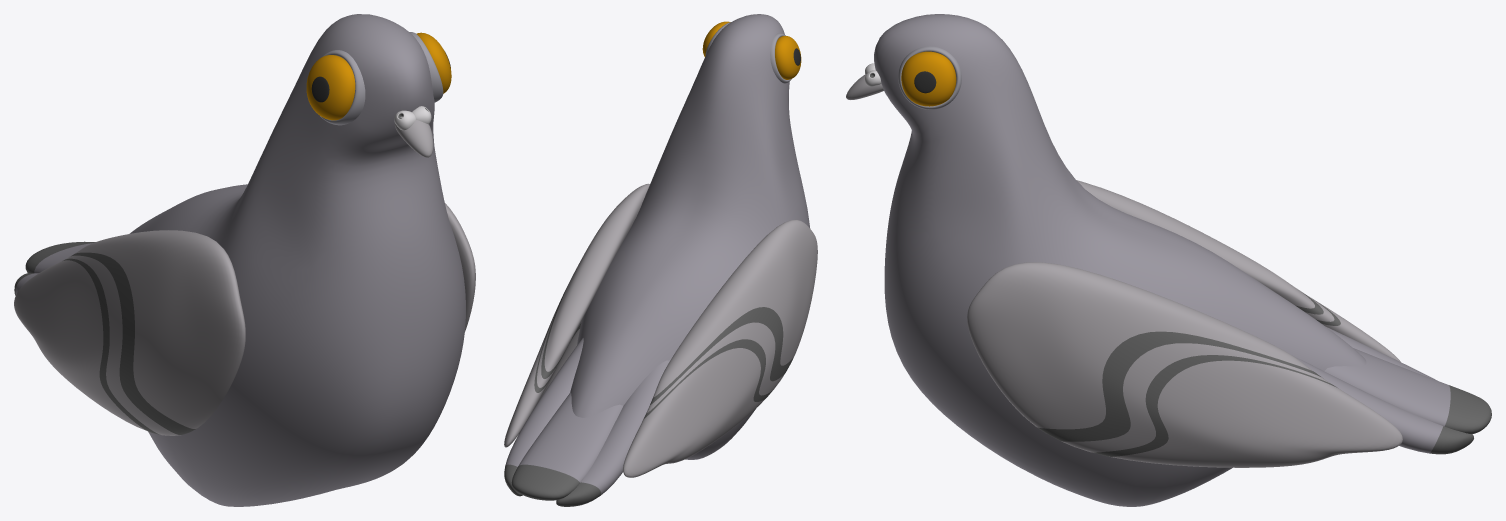
Rendered from FlyingPigeon.glb.
3 views of the same model, side by side, from view 1: azimuth 30°, elevation 25°; view 2: azimuth 150°, elevation 25°; view 3: azimuth 270°, elevation 25° (orthographic). The views are drawn at different scales.
Parts seen in each view (by area): view 1: polySurface71, polySurface74, polySurface76, polySurface73, polySurface72, polySurface68, polySurface56, polySurface75, polySurface55.001, polySurface67; view 2: polySurface71, polySurface74, polySurface72, polySurface73, polySurface76; view 3: polySurface71, polySurface73, polySurface72, polySurface74, polySurface75, polySurface67.
Part boxes in pixels (left/top/right/bottom): polySurface71: left=129, top=14, right=465, bottom=506; polySurface74: left=14, top=230, right=245, bottom=435; polySurface76: left=306, top=55, right=355, bottom=120; polySurface73: left=445, top=203, right=475, bottom=331; polySurface72: left=14, top=241, right=95, bottom=295; polySurface68: left=320, top=50, right=365, bottom=125; polySurface56: left=395, top=119, right=433, bottom=157; polySurface75: left=416, top=32, right=451, bottom=93; polySurface55.001: left=394, top=106, right=431, bottom=130; polySurface67: left=409, top=32, right=443, bottom=102; polySurface71: left=570, top=14, right=810, bottom=459; polySurface74: left=623, top=219, right=817, bottom=477; polySurface72: left=504, top=338, right=669, bottom=506; polySurface73: left=504, top=183, right=649, bottom=447; polySurface76: left=775, top=36, right=801, bottom=79; polySurface71: left=874, top=14, right=1366, bottom=506; polySurface73: left=967, top=262, right=1402, bottom=467; polySurface72: left=1293, top=326, right=1491, bottom=454; polySurface74: left=1076, top=180, right=1400, bottom=361; polySurface75: left=901, top=51, right=956, bottom=106; polySurface67: left=898, top=46, right=961, bottom=109.
Size of the model in its own units: 0.0424 by 0.0761 by 0.0949.
